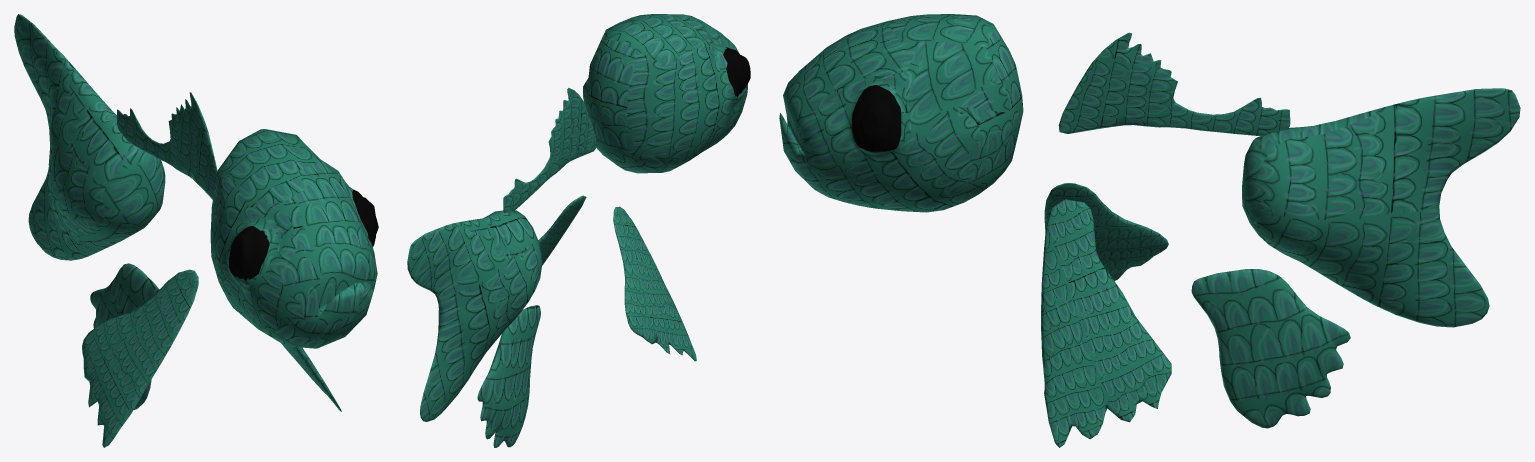
Rendered from ch3_fish.glb.
3 views of the same model, side by side, from view 1: azimuth 30°, elevation 25°; view 2: azimuth 150°, elevation 25°; view 3: azimuth 270°, elevation 25° (orthographic). The views are drawn at different scales.
Parts seen in each view (by area): view 1: _h3, _r32, _b32, _r31, _r33, _b31; view 2: _h3, _r32, _b32, _r33, _r31, _b31; view 3: _r32, _h3, _b31, _r33, _r31, _b32.
Part boxes in pixels (x1,y1,x2,y2): _h3: (210,129,378,348); _r32: (14,14,165,260); _b32: (82,269,198,447); _r31: (117,92,217,199); _r33: (90,263,159,409); _b31: (281,343,341,411); _h3: (583,14,750,173); _r32: (407,210,542,421); _b32: (613,206,696,361); _r33: (477,305,540,447); _r31: (503,88,596,212); _b31: (538,195,586,265); _r32: (1242,88,1520,327); _h3: (779,14,1023,212); _b31: (1041,199,1171,447); _r33: (1191,269,1350,428); _r31: (1058,32,1290,135); _b32: (1044,183,1168,281).
Bounding box in the file's own units: 0.7186 × 1.1 × 1.81.
Materials: 2 (1 with a texture image).
